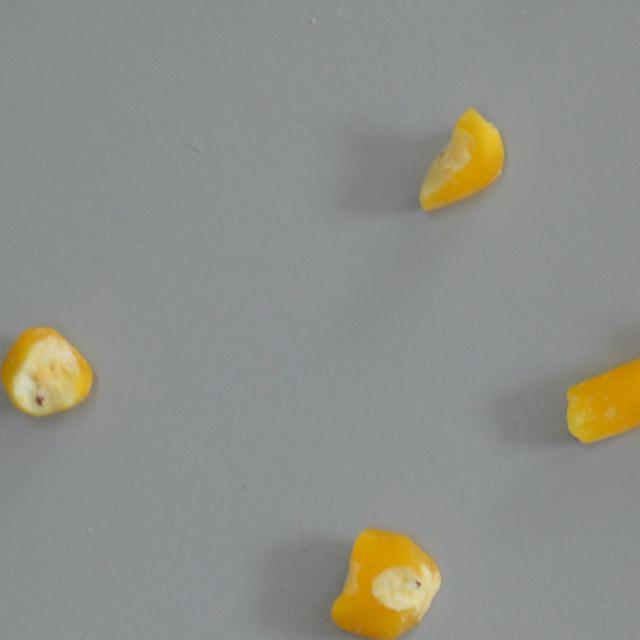pelicula: (561, 356, 640, 453)
punto_negro: (324, 524, 444, 640), (411, 110, 510, 218), (0, 320, 99, 424)
